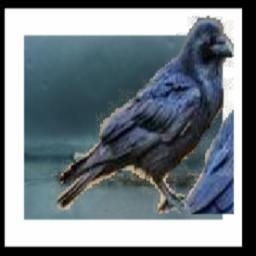Crow: (52, 17, 235, 215)
